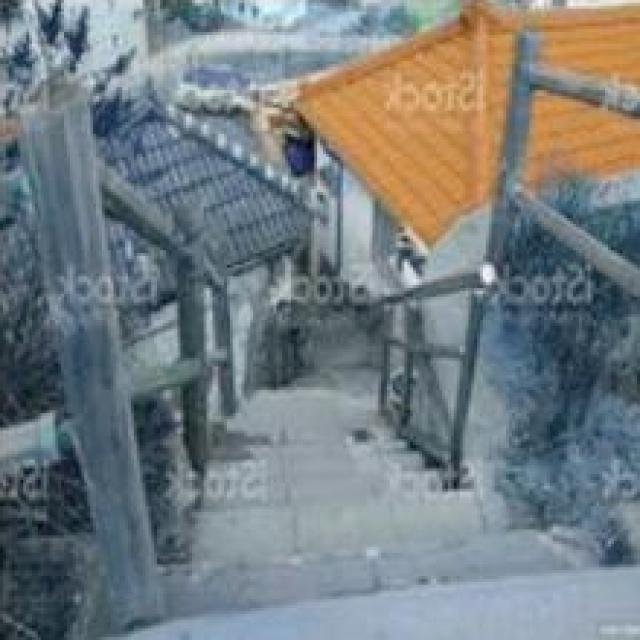downstair: (155, 455, 545, 623)
